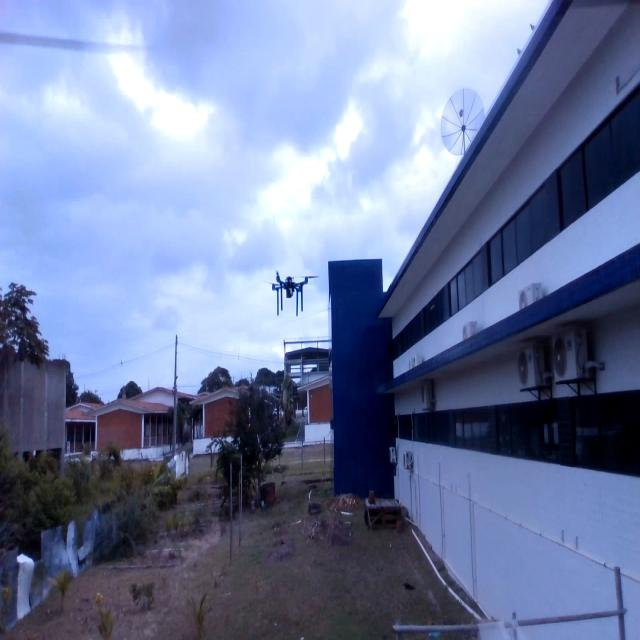-uav-: (267, 262, 320, 326)
